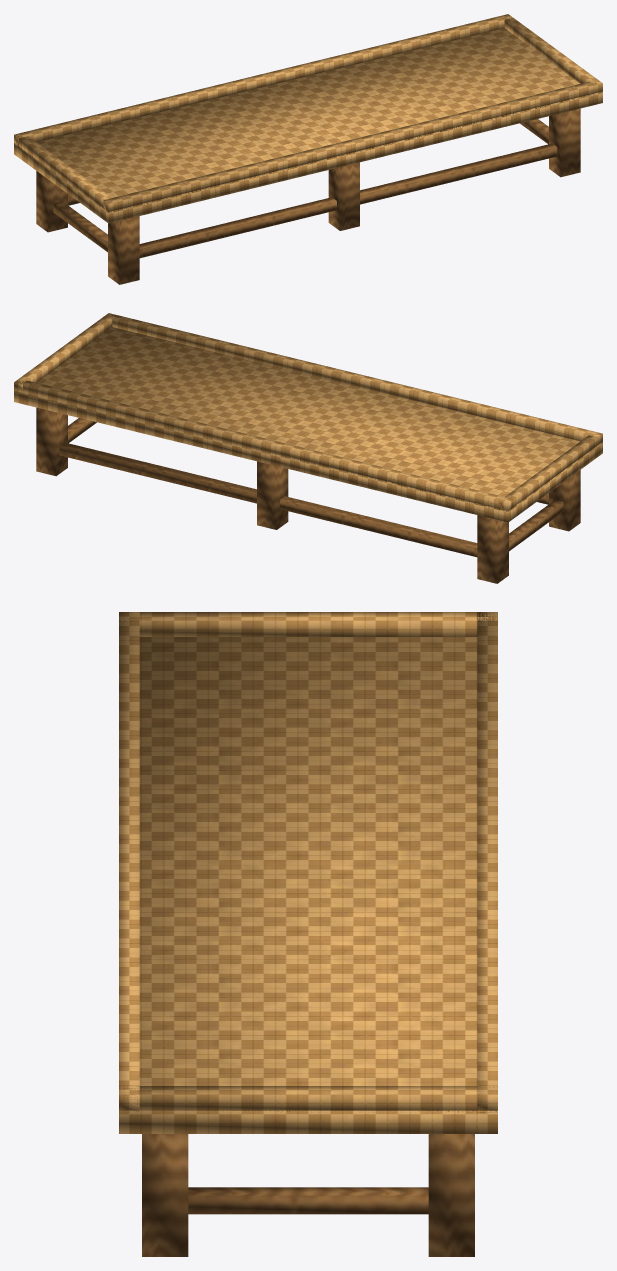
File: gourd-prop-table-a.glb
The picture shows the model from 3 angles, top to bottom: view 1: azimuth 30°, elevation 25°; view 2: azimuth 150°, elevation 25°; view 3: azimuth 270°, elevation 25°; orthographic projection. The views are drawn at different scales.
Visible parts, largest first — view 1: top, legs; view 2: top, legs; view 3: top, legs.
Boxes of the visible parts, left/top/right/bottom form: top: left=14, top=14, right=602, bottom=223; legs: left=36, top=108, right=580, bottom=284; top: left=14, top=313, right=602, bottom=522; legs: left=36, top=407, right=580, bottom=583; top: left=119, top=612, right=497, bottom=1133; legs: left=142, top=1134, right=474, bottom=1256.
Bounding box in the file's own units: 0.2096 × 0.0362 × 0.0696.
Materials: 2 (2 with a texture image).
